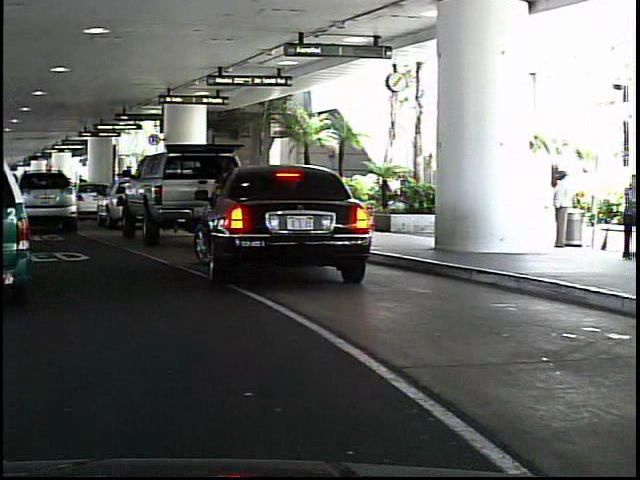person: (613, 172, 637, 267)
